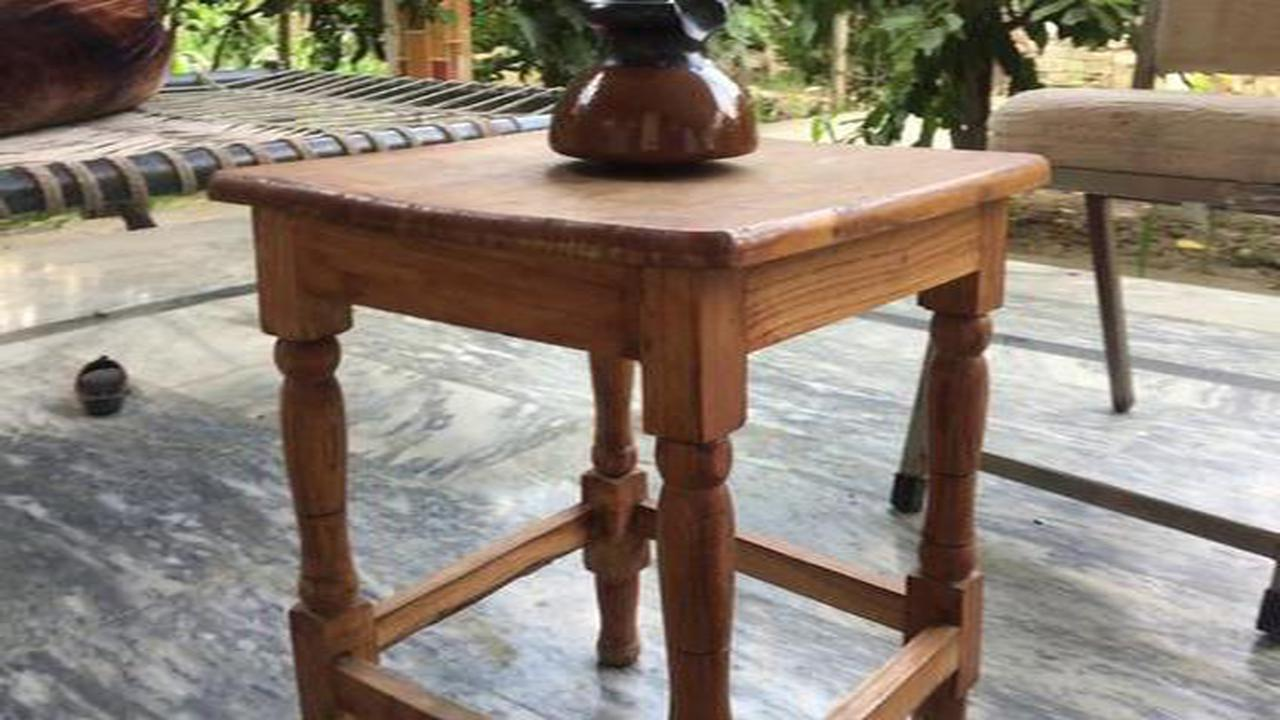insulator_pin: (536, 2, 767, 182)
